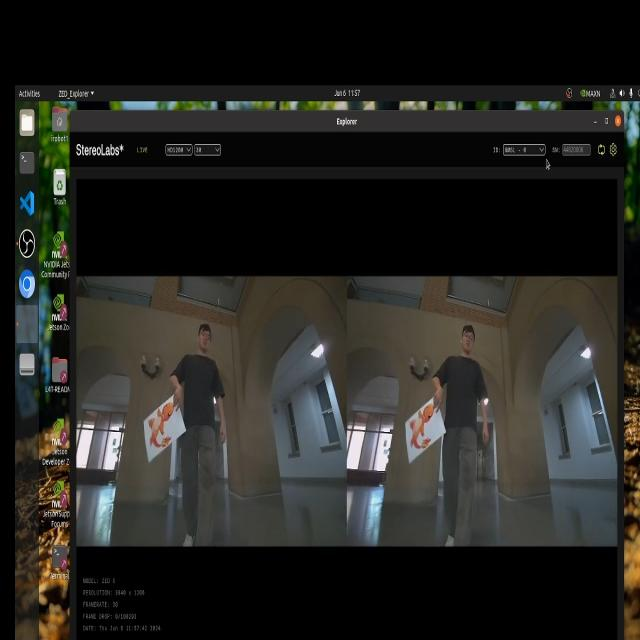red: (146, 393, 178, 452), (408, 400, 436, 453)
